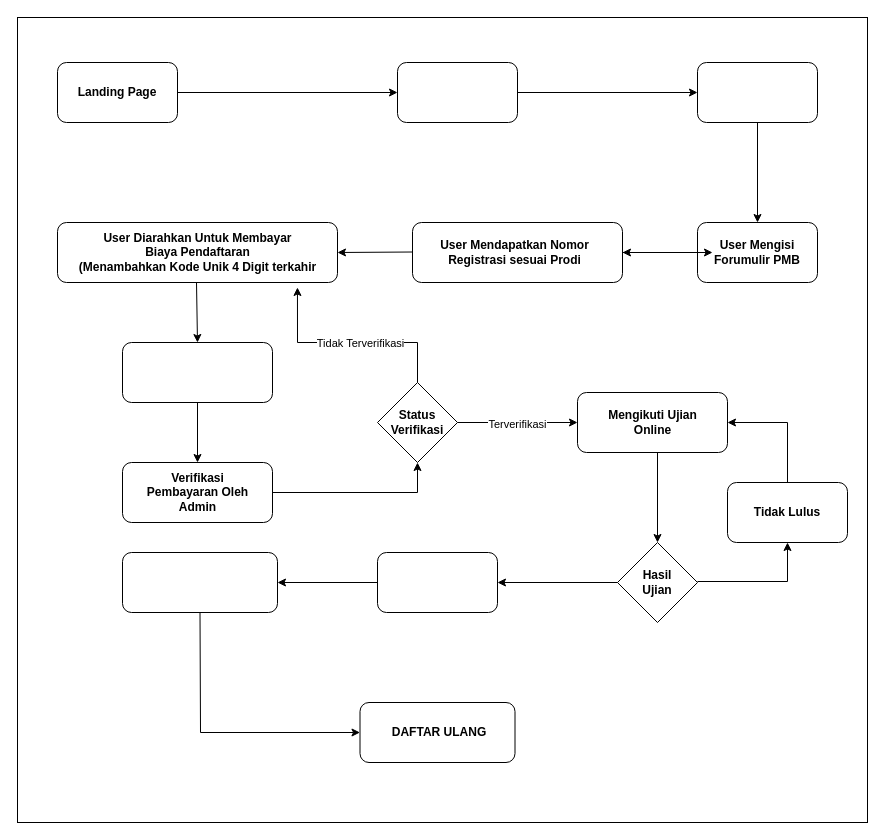
The diagram is 885 pixels wide and 840 high, and some of its shapes have lost their labels. The shapes that lost their labels are listed below. From the top down, each one's centre as x and y in pixels, then its label:
At (457,92): "Pendaftaran User".
At (757,92): "Verifikasi User Via Email".
At (197,372): "User Mengupload Bukti Pembayaran".
At (200,582): "Mengisi/Mengupload Kelangkapan Data".
At (437,582): "Lulus".
